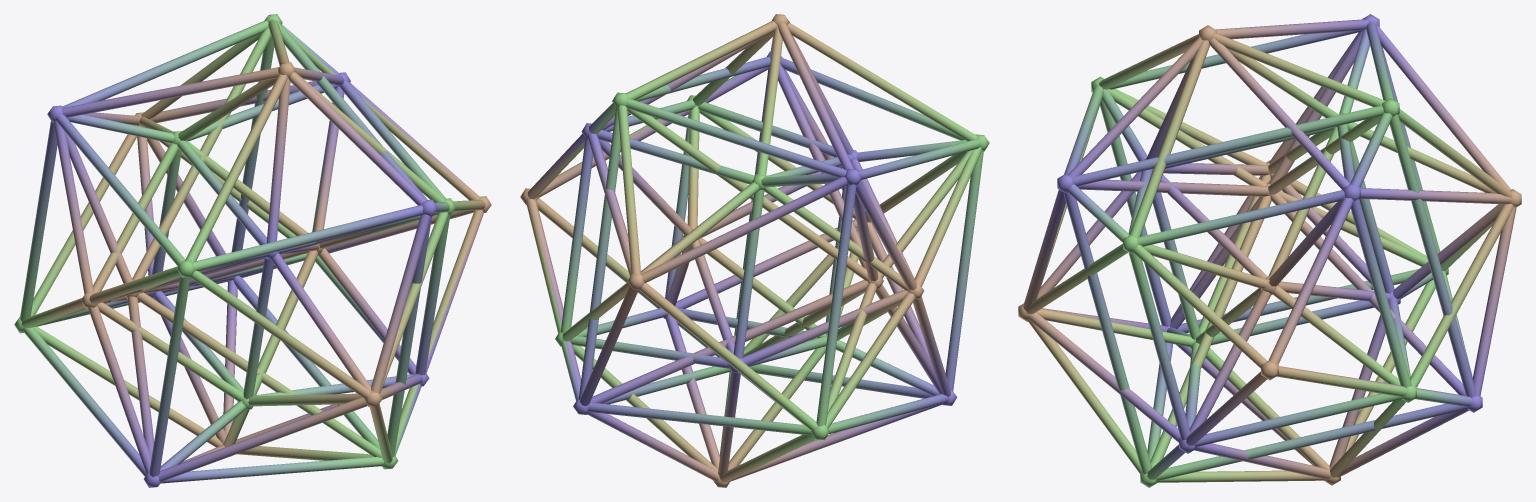
Rendered from example.gltf.
3 views of the same model, side by side, from view 1: azimuth 30°, elevation 25°; view 2: azimuth 150°, elevation 25°; view 3: azimuth 270°, elevation 25° (orthographic). The views are drawn at different scales.
Visible parts, largest first — view 1: 24cell; view 2: 24cell; view 3: 24cell.
Part boxes in pixels (bbox=[...]): 24cell: bbox=[14, 14, 491, 487]; 24cell: bbox=[520, 14, 989, 487]; 24cell: bbox=[1018, 14, 1521, 487].
Size of the model in its own units: 1.96 by 2.01 by 2.01.
